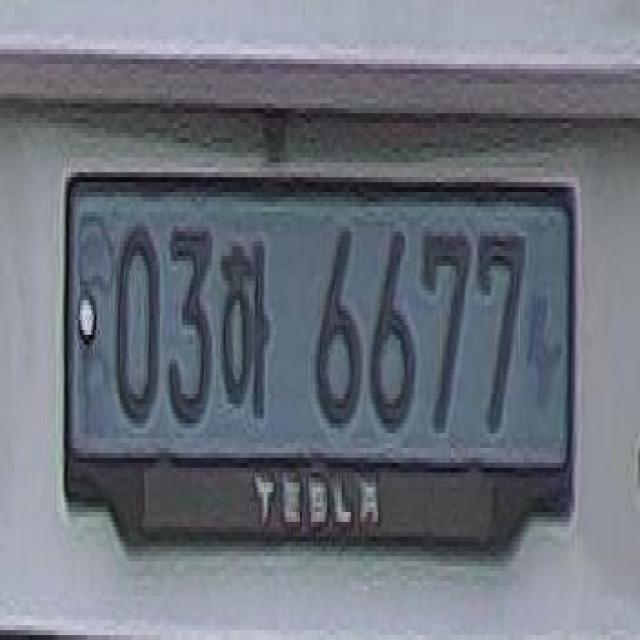EV_plate: (63, 146, 588, 581)
